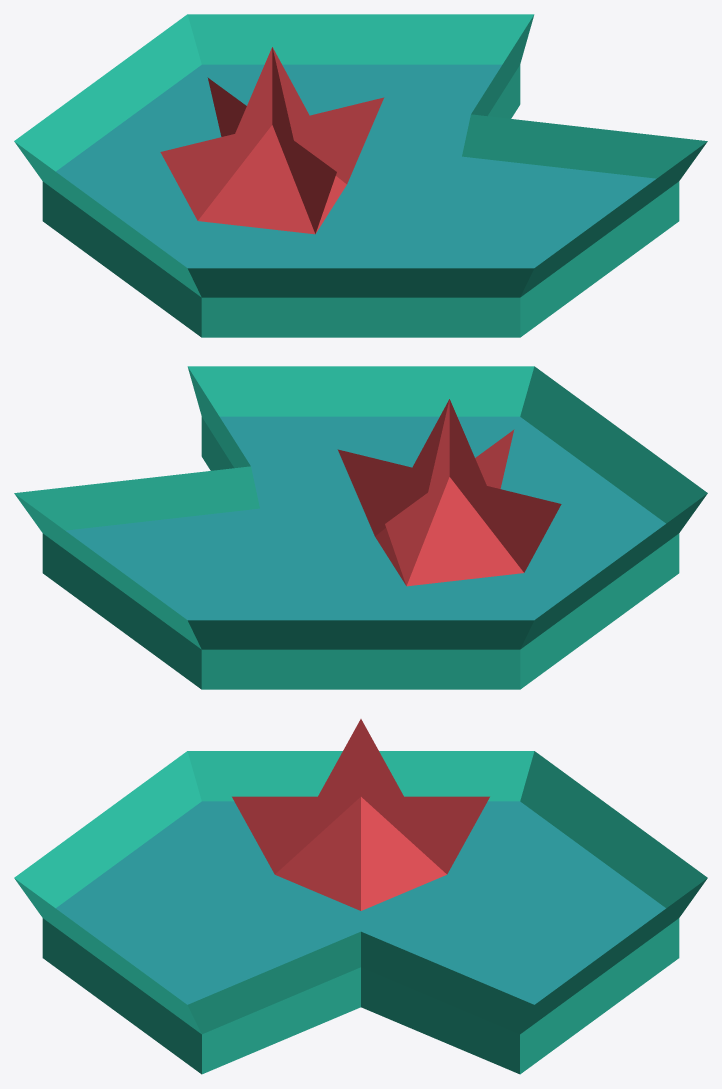
File: d_kenney_nenuphar_grand.glb
3 renders of one model, top to bottom at view 1: azimuth 30°, elevation 25°; view 2: azimuth 150°, elevation 25°; view 3: azimuth 270°, elevation 25°, orthographic.
Parts seen in each view (by area): view 1: d_kenney_nenuphar_grand; view 2: d_kenney_nenuphar_grand; view 3: d_kenney_nenuphar_grand.
Boxes of the visible parts, x1,y1,x2,y2 form: d_kenney_nenuphar_grand: (14,14,707,337); d_kenney_nenuphar_grand: (14,366,707,689); d_kenney_nenuphar_grand: (14,719,707,1074).
Size of the model in its own units: 0.2719 by 0.098 by 0.3139.
Materials: 1 (1 with a texture image).
